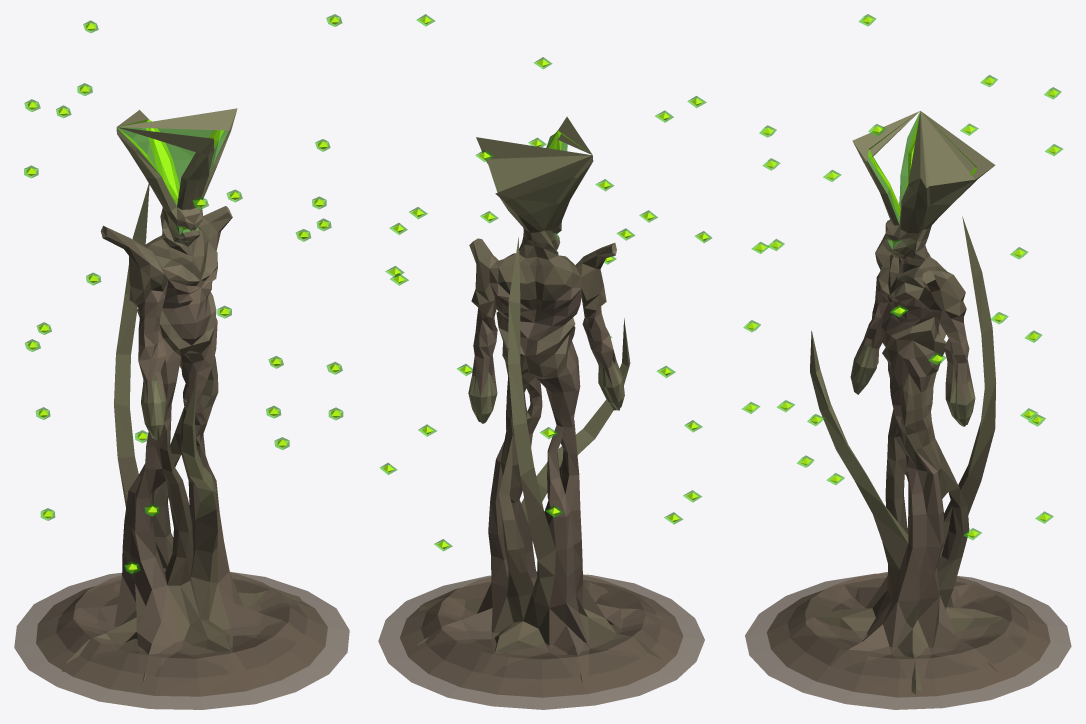
File: hespori.gltf
3 views of the same model, side by side, from view 1: azimuth 30°, elevation 25°; view 2: azimuth 150°, elevation 25°; view 3: azimuth 270°, elevation 25° (orthographic). The views are drawn at different scales.
Bounding box in the file's own units: 376 × 738 × 378.
Materials: 2 (2 with a texture image).
